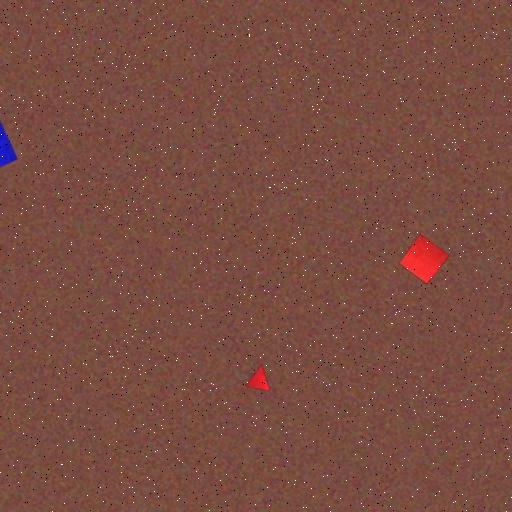RED_SQUARE: (398, 232, 450, 286)
